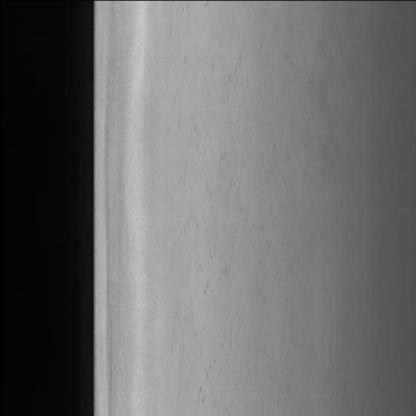silk_spot: (179, 27, 287, 370)
